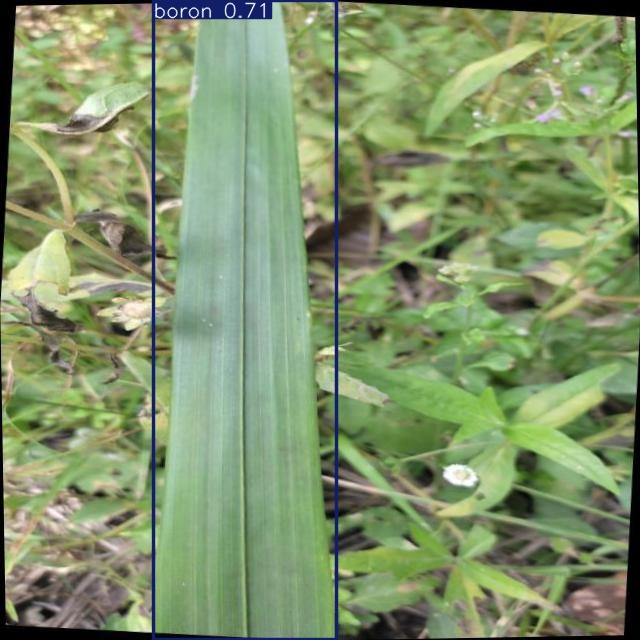nitrogen: (153, 1, 336, 640)
